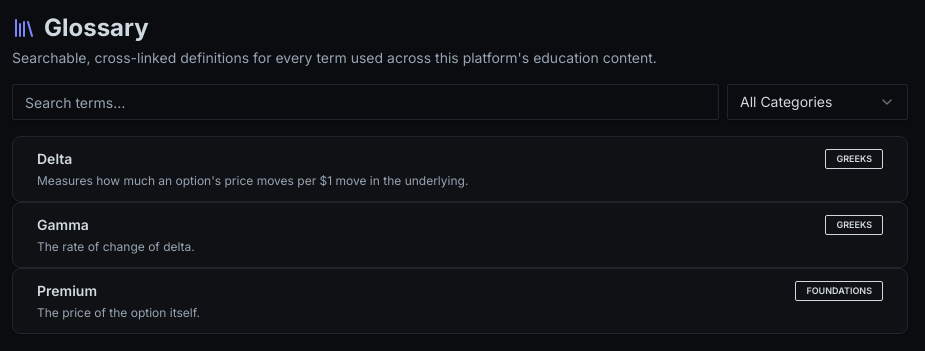
Glossary › shows an honest empty state when nothing matches the search
Type "this-does-not-exist-anywhere" into the field with test id "input-glossary-search" at (366, 102), box [12, 84, 719, 120]
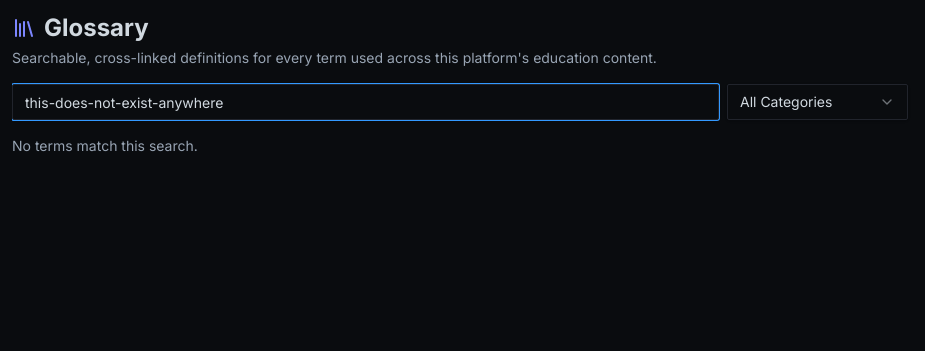
Check: the text "No terms match this search." is shown, box [12, 137, 198, 154]
